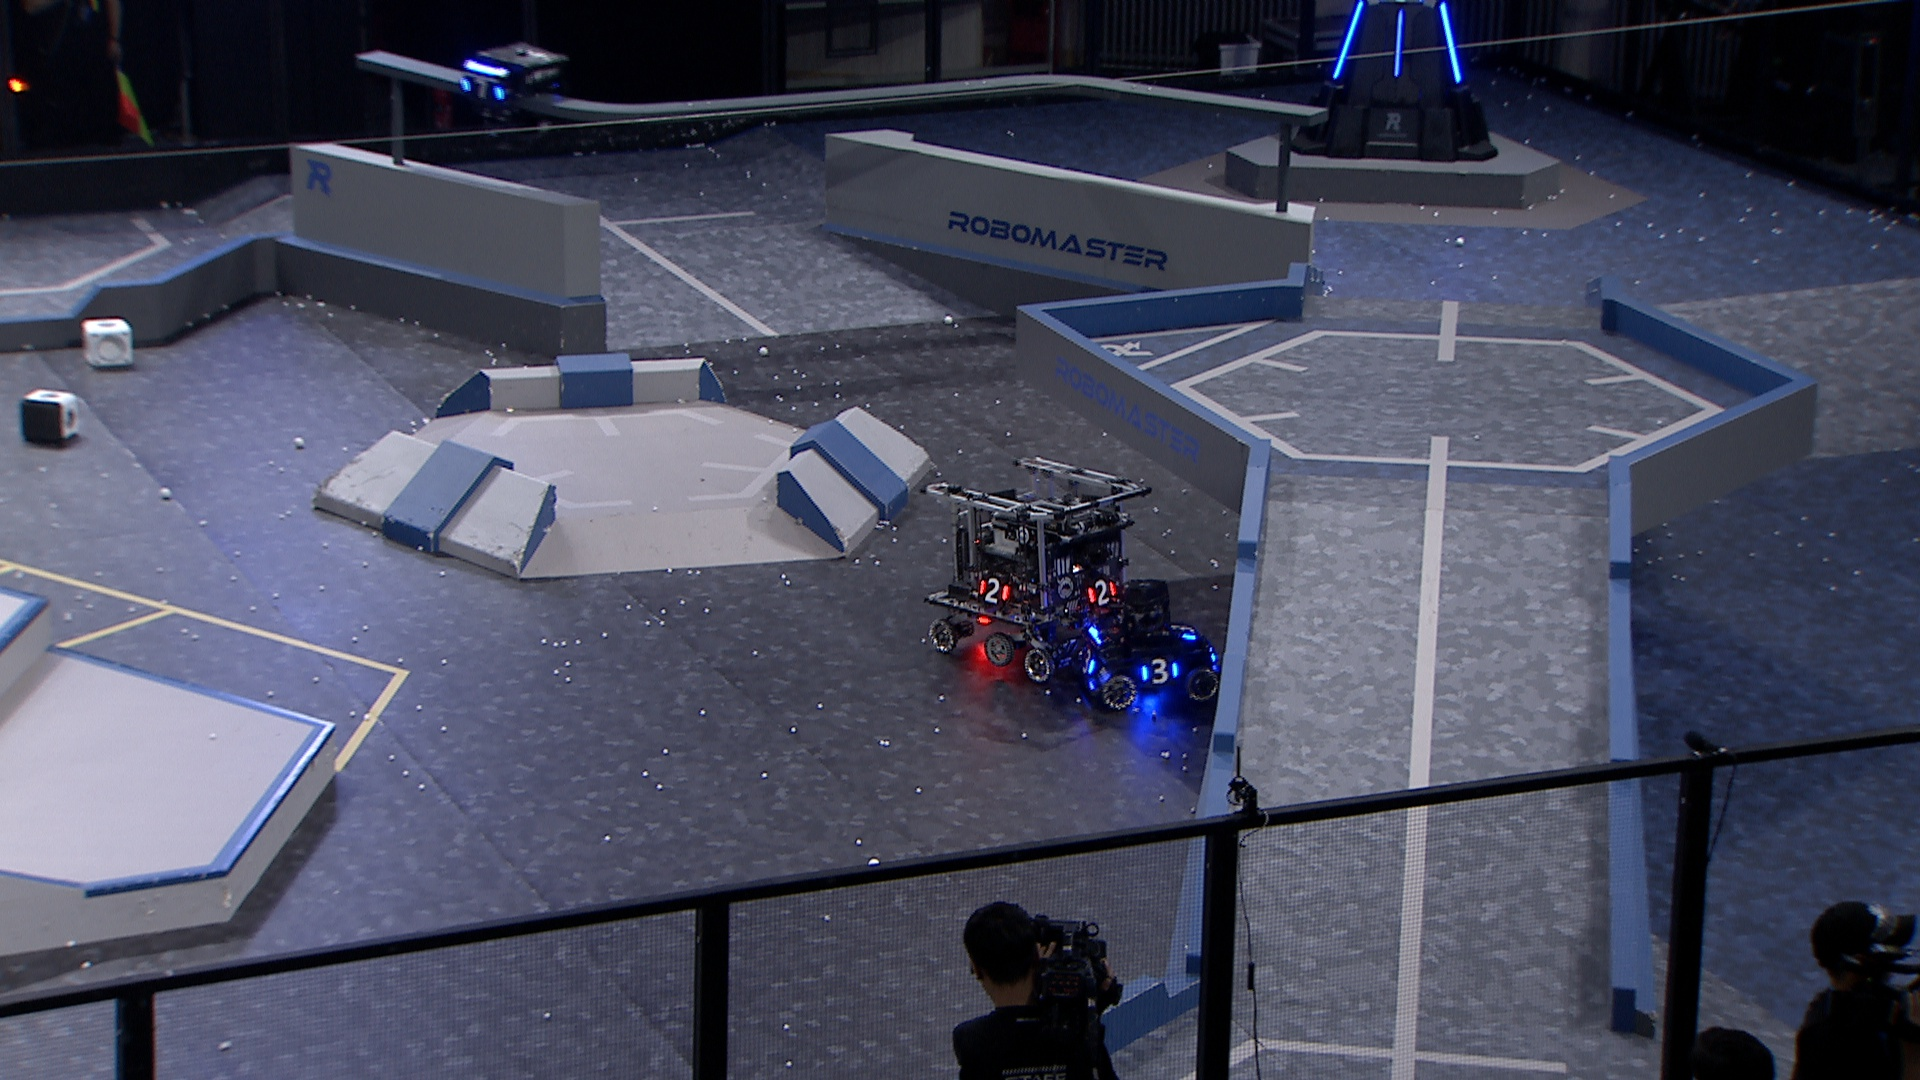armor: (1333, 0, 1367, 80), (1437, 3, 1465, 84), (458, 78, 509, 102), (1139, 659, 1183, 687), (1084, 578, 1116, 607), (978, 578, 1011, 605), (1395, 11, 1406, 79), (1171, 621, 1201, 640), (1079, 647, 1097, 678)
car: (916, 452, 1154, 688), (1064, 575, 1224, 712)
watcher: (452, 41, 570, 157)
